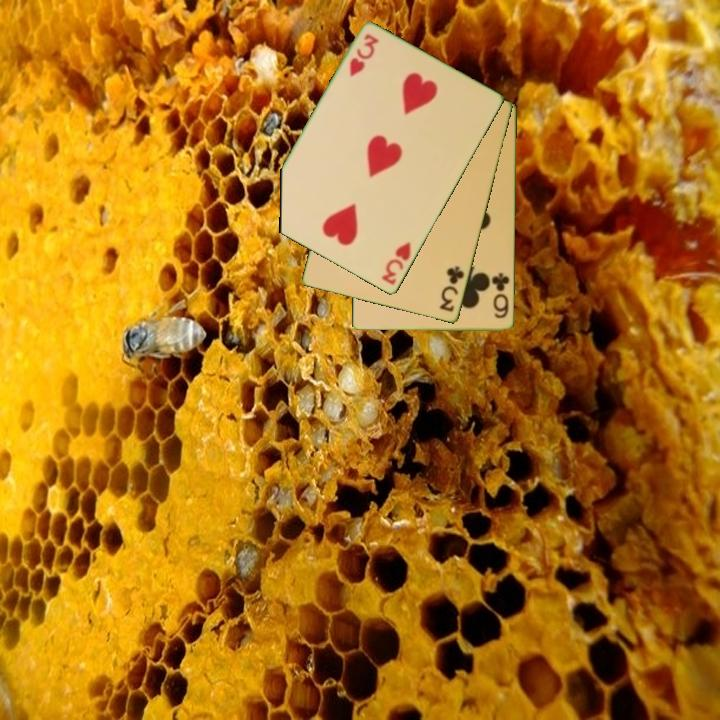3c: (436, 263, 467, 315)
3h: (346, 30, 382, 80), (378, 239, 414, 288)
6c: (489, 270, 512, 321)
